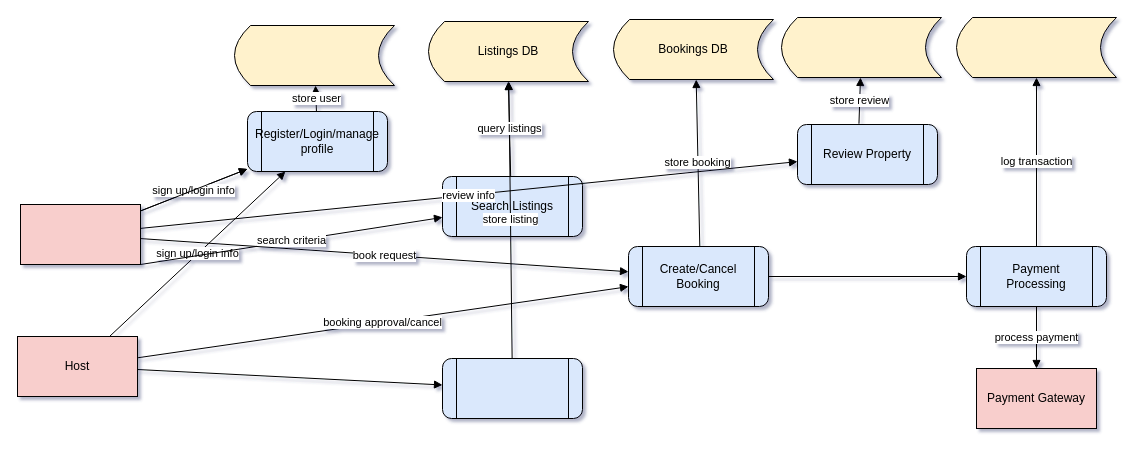
The diagram is 1140 pixels wide and 452 high, and some of its shapes have lost their labels. The shapes that lost their labels are listed below. From the top down, each one's centre as x and y in pixels, then its label:
pixel 314 55: Users DB
pixel 861 47: Reviews DB
pixel 1036 47: Payments DB
pixel 80 234: Guest
pixel 512 388: Add/Edit/Delete Listing
